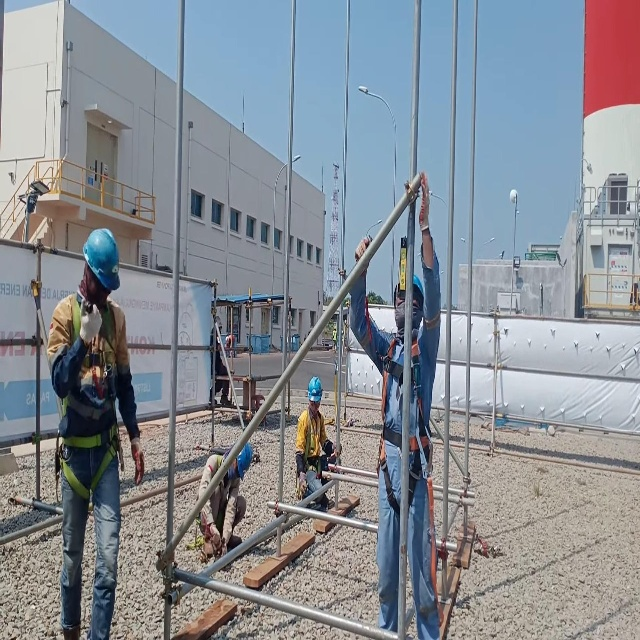Arnes_seguridad: (375, 331, 445, 630), (51, 290, 126, 512), (185, 452, 234, 560), (299, 404, 327, 483)
